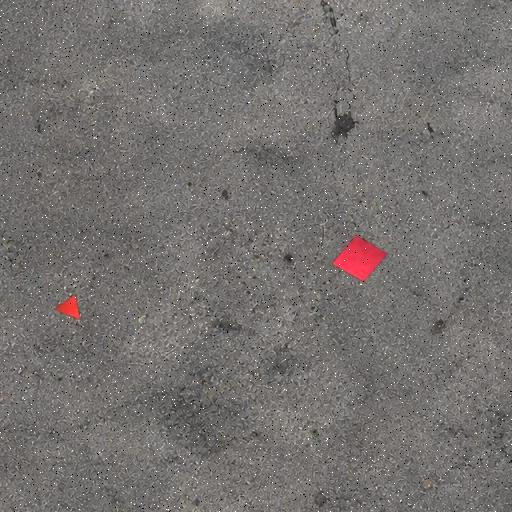RED_SQUARE: (330, 234, 389, 282)
